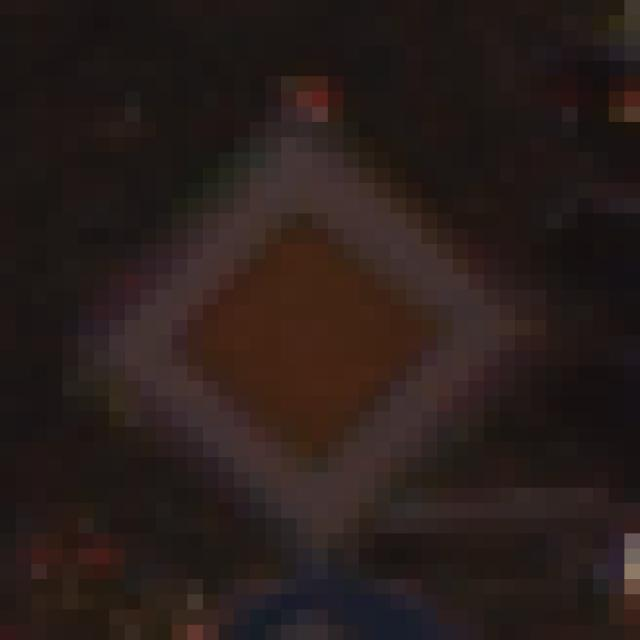Main Road: (79, 77, 563, 565)
